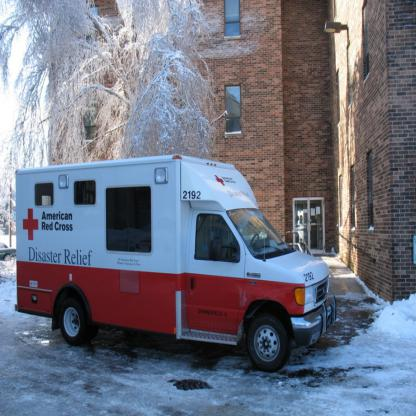Ambulance: (15, 154, 337, 373)
Truck: (14, 154, 337, 373)
